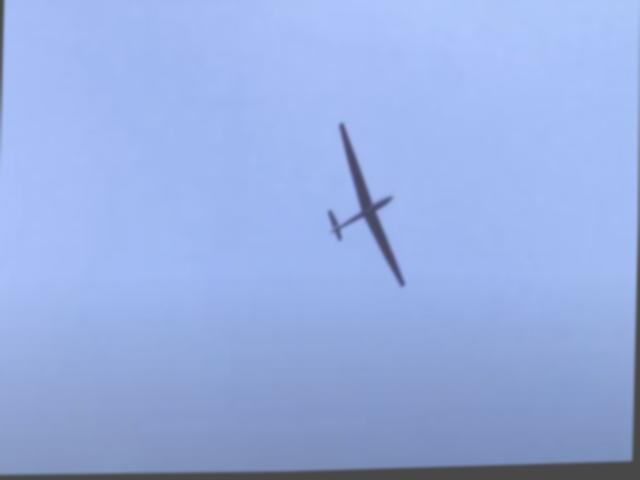iha: (322, 120, 409, 289)
